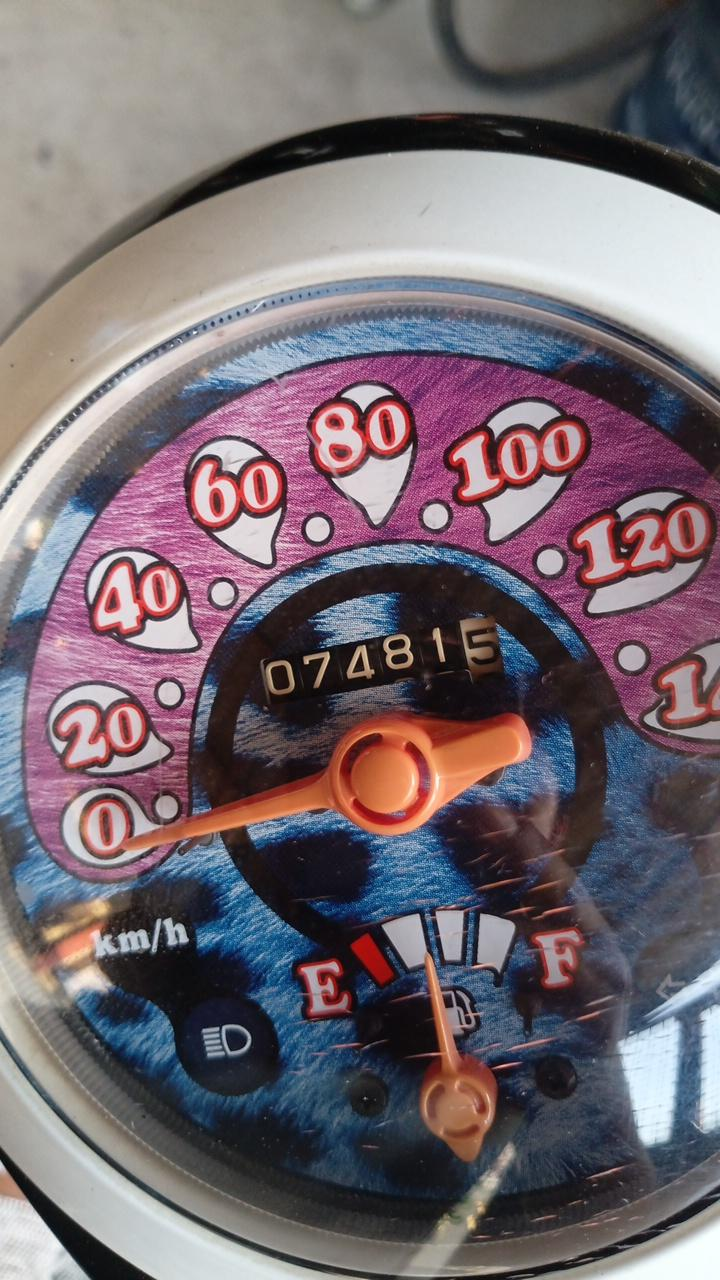0: (265, 659, 296, 697)
1: (431, 626, 447, 665)
4: (345, 643, 376, 682)
5: (466, 624, 501, 667)
7: (302, 650, 332, 690)
8: (383, 633, 414, 672)
odometer: (259, 610, 506, 713)
